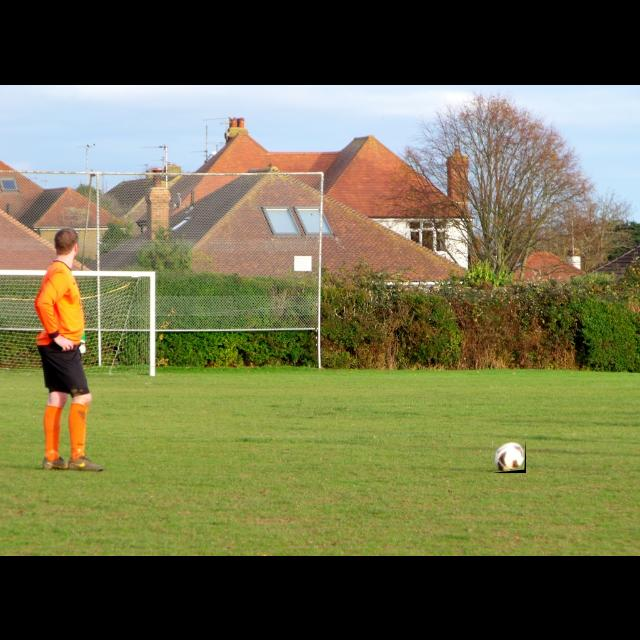Football: (492, 441, 526, 473)
